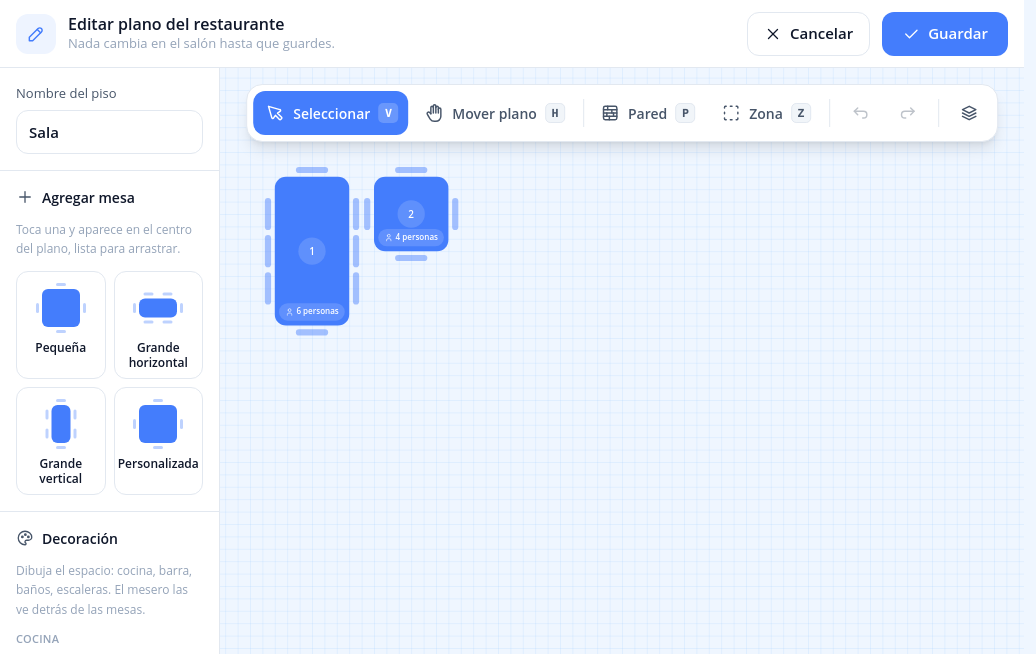
it: muestra el error del servidor al guardar y deja reintentar
This screenshot has width=1036, height=654.
Replace the text in the field labelled "Nombre del piso" with "Sala nueva": {"x": 110, "y": 132} [16,110,203,154]
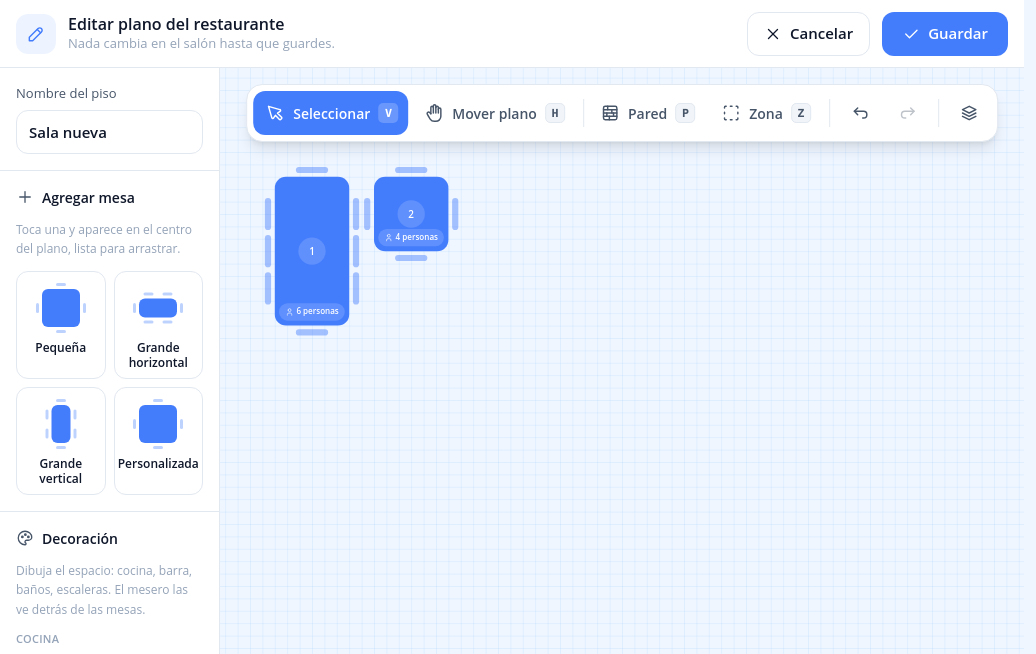
Click the button "Guardar": {"x": 945, "y": 34} [882,12,1008,56]
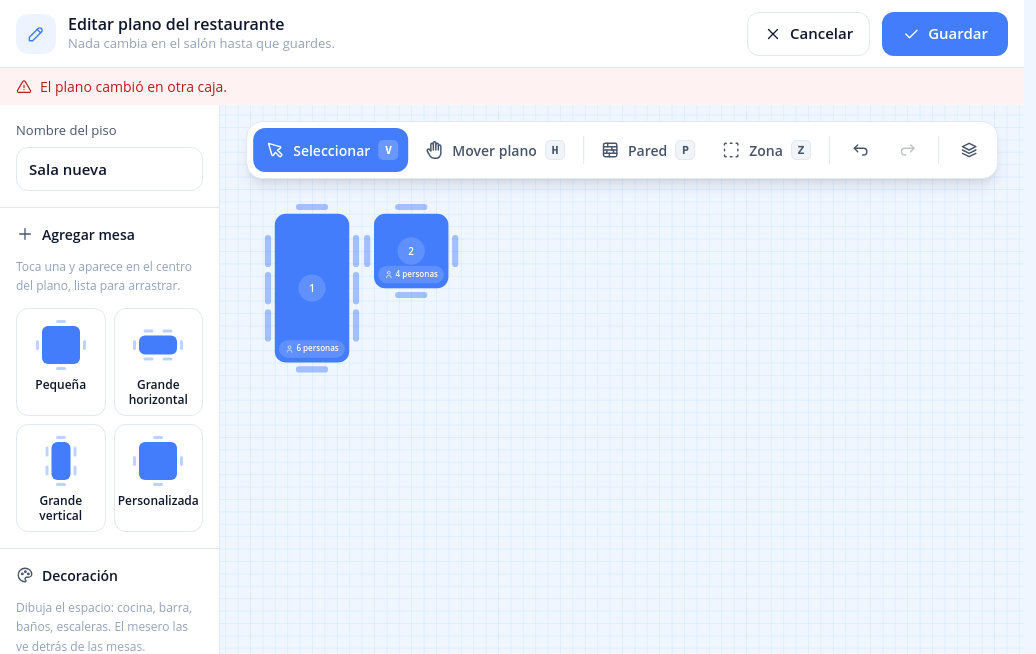
Check: the message reads "El plano cambió en otra caja.", box [40,77,227,96]
